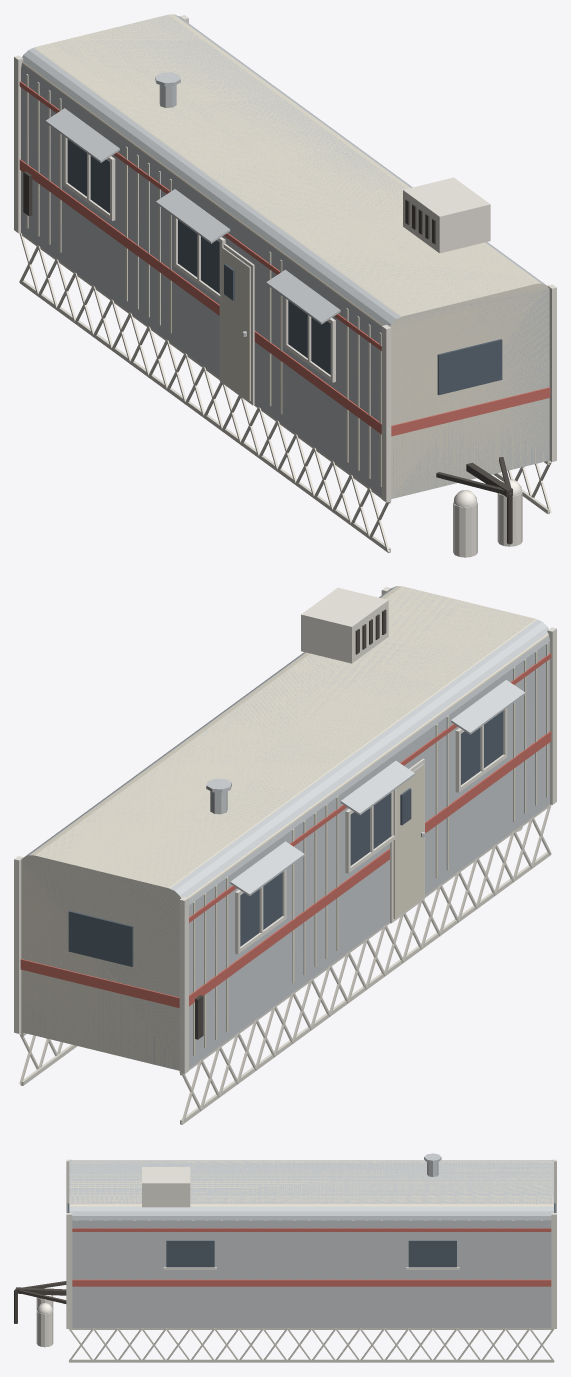
The model's file is trailer_park.glb.
3 renders of one model, top to bottom at view 1: azimuth 30°, elevation 25°; view 2: azimuth 150°, elevation 25°; view 3: azimuth 270°, elevation 25°, orthographic. The views are drawn at different scales.
Visible parts, largest first — view 1: tp_trailer_cream_mesh, tp_trailer_tin_mesh; view 2: tp_trailer_cream_mesh, tp_trailer_tin_mesh; view 3: tp_trailer_tin_mesh, tp_trailer_cream_mesh.
Part boxes in pixels (x1,y1,x2,y2): tp_trailer_cream_mesh: [14, 14, 556, 557]; tp_trailer_tin_mesh: [21, 14, 549, 498]; tp_trailer_cream_mesh: [14, 586, 556, 1124]; tp_trailer_tin_mesh: [21, 586, 549, 1070]; tp_trailer_tin_mesh: [69, 1153, 553, 1327]; tp_trailer_cream_mesh: [14, 1157, 556, 1362].
Size of the model in its own units: 2.96 by 4.05 by 11.2.
